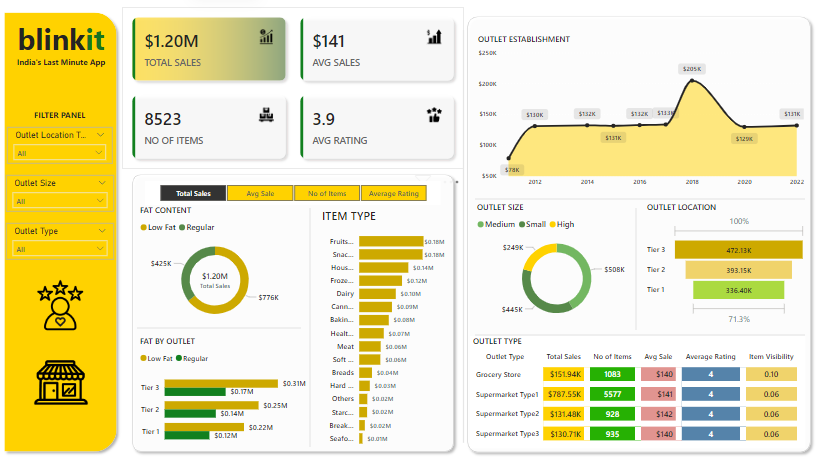

The dashboard page shown, as its layout file describes it:
{"tool":"powerbi","page":{"name":"Page 1","canvas":[1400,800],"ordinal":0},"visuals":[{"type":"shape","box":[23.3,25,205,765],"z":0},{"type":"textbox","box":[43.3,40,166.7,103.3],"z":1000},{"type":"textbox","box":[43.3,103.3,166.7,40],"z":2000},{"type":"cardVisual","fields":{"Data":["BlinkIT Grocery Data.Total Sales","BlinkIT Grocery Data.Avg Sale","BlinkIT Grocery Data.No of Items","BlinkIT Grocery Data.Average Rating"]},"box":[228.3,25,570,270],"z":3000},{"type":"shape","box":[236.7,295,553.3,480],"z":4000},{"type":"donutChart","title":"FAT CONTENT","fields":{"Y":["BlinkIT Grocery Data.Total Sales"],"Category":["BlinkIT Grocery Data.Item Fat Content"]},"box":[253.3,355,260,205],"z":5000},{"type":"slicer","fields":{"Values":["Metrics.Metrics"]},"box":[266.7,315,493.3,40],"z":6000},{"type":"cardVisual","fields":{"Data":["BlinkIT Grocery Data.Total Sales"]},"box":[303.3,426.7,160,106.7],"z":7000},{"type":"clusteredBarChart","title":"FAT BY OUTLET","fields":{"Y":["BlinkIT Grocery Data.Total Sales"],"Category":["BlinkIT Grocery Data.Outlet Location Type"],"Series":["BlinkIT Grocery Data.Item Fat Content"]},"box":[253.3,573.3,288.3,193.3],"z":8000},{"type":"shape","box":[253.3,530,273.3,60],"z":9000},{"type":"shape","box":[526.7,360,30,398.3],"z":10000},{"type":"barChart","title":"ITEM TYPE","fields":{"Y":["BlinkIT Grocery Data.Total Sales"],"Category":["BlinkIT Grocery Data.Item Type"]},"box":[556.7,360,215,406.7],"z":11000},{"type":"shape","box":[795.6,31.1,590,744.4],"z":12000},{"type":"lineChart","title":"OUTLET ESTABLISHMENT","fields":{"Category":["BlinkIT Grocery Data.Outlet Establishment Year"],"Y":["BlinkIT Grocery Data.Total Sales"]},"box":[816.7,70,553.3,265],"z":13000},{"type":"shape","box":[781.7,63.3,31.7,688.3],"z":14000},{"type":"donutChart","title":"OUTLET SIZE","fields":{"Y":["BlinkIT Grocery Data.Total Sales"],"Category":["BlinkIT Grocery Data.Outlet Size"]},"box":[815.6,350,275.6,208.9],"z":15000},{"type":"shape","box":[1078.3,360,13.3,203.3],"z":16000},{"type":"funnel","title":"OUTLET LOCATION","fields":{"Y":["Sum(BlinkIT Grocery Data.Sales)"],"Category":["BlinkIT Grocery Data.Outlet Location Type"]},"box":[1098.9,350,274.4,208.9],"z":17000},{"type":"shape","box":[816.7,335.6,550,20],"z":18000},{"type":"shape","box":[816.7,563.3,550,16.7],"z":19000},{"type":"pivotTable","title":"OUTLET TYPE","fields":{"Values":["BlinkIT Grocery Data.Total Sales","BlinkIT Grocery Data.No of Items","BlinkIT Grocery Data.Avg Sale","BlinkIT Grocery Data.Average Rating","Avg(BlinkIT Grocery Data.Item Visibility)"],"Rows":["BlinkIT Grocery Data.Outlet Type"]},"box":[807.8,573.3,558.9,186.7],"z":20000},{"type":"slicer","fields":{"Values":["BlinkIT Grocery Data.Outlet Location Type"]},"box":[37.1,224.3,175.7,61.4],"z":21000},{"type":"slicer","fields":{"Values":["BlinkIT Grocery Data.Outlet Size"]},"box":[35.7,304.3,180,61.4],"z":22000},{"type":"slicer","fields":{"Values":["BlinkIT Grocery Data.Item Type"]},"box":[35.7,385.7,180,61.4],"z":23000},{"type":"textbox","box":[65,188.3,121.7,30],"z":24000},{"type":"image","box":[50,447.1,150,152.9],"z":25000},{"type":"image","box":[51.4,571.4,150,151.4],"z":26000}]}

Visuals, with their boxes in screenshot pixels (x1, y1, x2, y2), scaled from the page's 1400x800 canvas onto the 817x459 screenshot:
shape: select_region(14, 14, 133, 453)
textbox: select_region(25, 23, 123, 82)
textbox: select_region(25, 59, 123, 82)
cardVisual - BlinkIT Grocery Data.Total Sales x BlinkIT Grocery Data.Avg Sale: select_region(133, 14, 466, 169)
shape: select_region(138, 169, 461, 445)
"FAT CONTENT" donutChart: select_region(148, 204, 300, 321)
slicer - Metrics.Metrics: select_region(156, 181, 444, 204)
cardVisual - BlinkIT Grocery Data.Total Sales: select_region(177, 245, 270, 306)
"FAT BY OUTLET" clusteredBarChart: select_region(148, 329, 316, 440)
shape: select_region(148, 304, 307, 339)
shape: select_region(307, 207, 325, 435)
"ITEM TYPE" barChart: select_region(325, 207, 450, 440)
shape: select_region(464, 18, 809, 445)
"OUTLET ESTABLISHMENT" lineChart: select_region(477, 40, 799, 192)
shape: select_region(456, 36, 475, 431)
"OUTLET SIZE" donutChart: select_region(476, 201, 637, 321)
shape: select_region(629, 207, 637, 323)
"OUTLET LOCATION" funnel: select_region(641, 201, 801, 321)
shape: select_region(477, 193, 798, 204)
shape: select_region(477, 323, 798, 333)
"OUTLET TYPE" pivotTable: select_region(471, 329, 798, 436)
slicer - BlinkIT Grocery Data.Outlet Location Type: select_region(22, 129, 124, 164)
slicer - BlinkIT Grocery Data.Outlet Size: select_region(21, 175, 126, 210)
slicer - BlinkIT Grocery Data.Item Type: select_region(21, 221, 126, 257)
textbox: select_region(38, 108, 109, 125)
image: select_region(29, 257, 117, 344)
image: select_region(30, 328, 118, 415)
